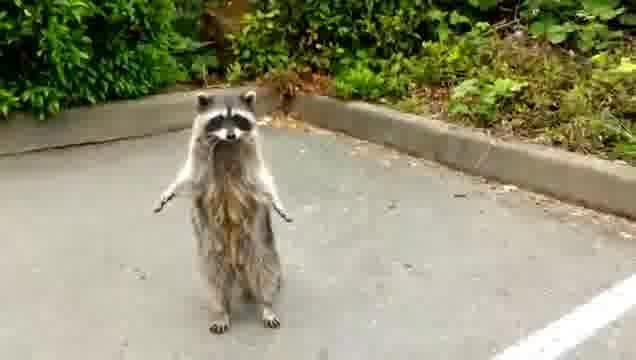raccoon: (151, 91, 297, 341)
